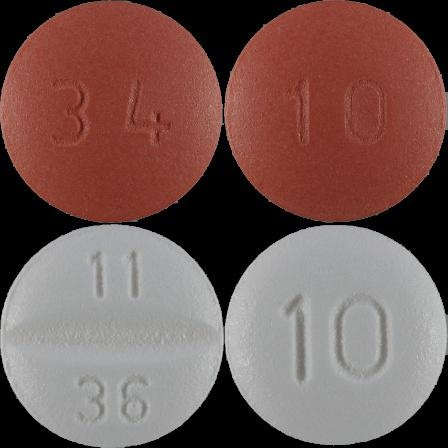13668-134: (0, 0, 224, 224)
